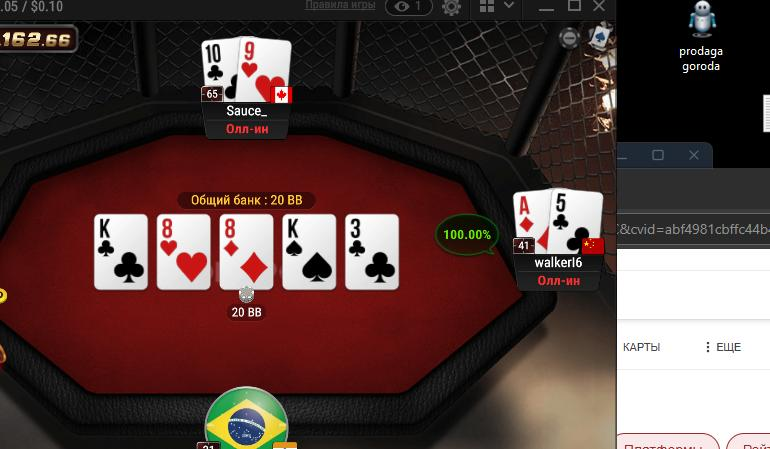10c: (200, 38, 238, 105)
3c: (345, 214, 398, 289)
5c: (550, 190, 605, 254)
8d: (220, 215, 272, 289)
8h: (157, 214, 211, 289)
9h: (237, 35, 291, 105)
Ad: (512, 190, 549, 254)
Kc: (95, 215, 147, 288)
Ks: (282, 214, 336, 290)
